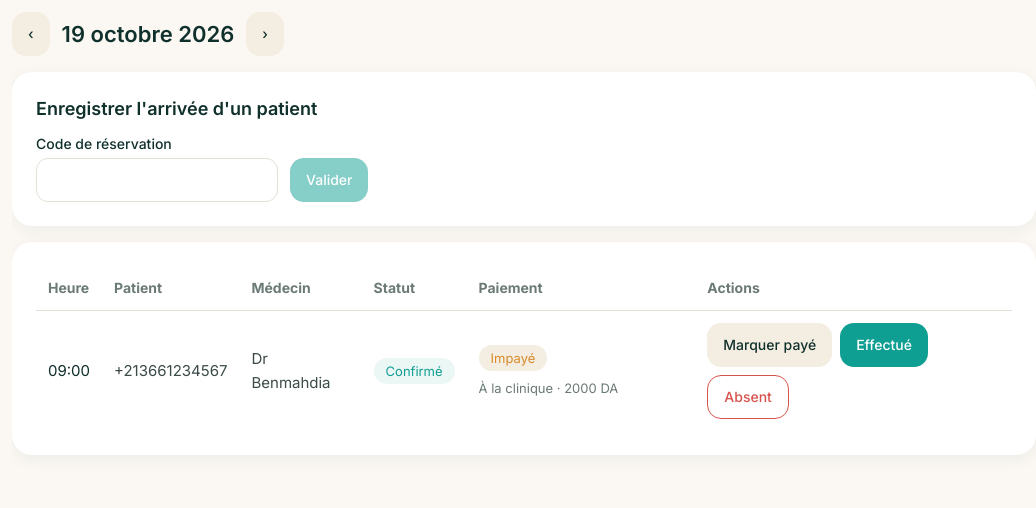
Check-in › explains checkin_code_invalid
expect the text "09:00" is shown: met, box [36, 310, 102, 431]
Type "ZZZZZZ" into the field labelled "Code de réservation" at (157, 180), box [36, 158, 278, 202]
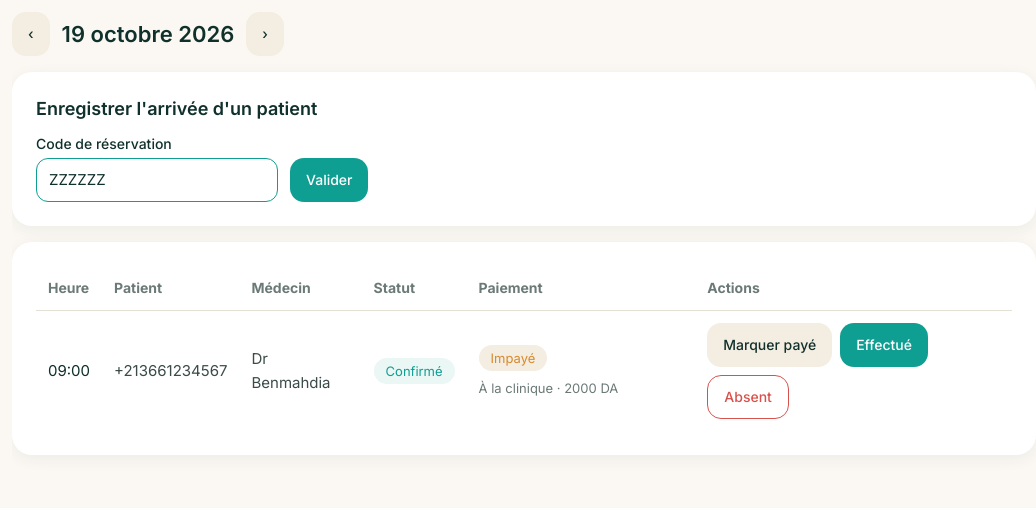
Click the button "Valider" at (329, 180), box [290, 158, 368, 202]
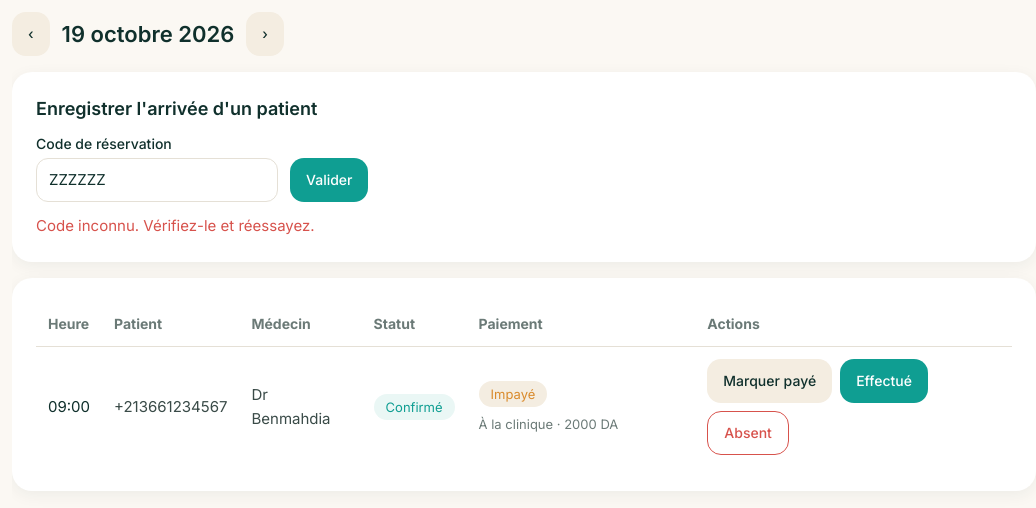
expect the message reads "Code inconnu. Vérifiez-le et réessayez.": met, box [36, 216, 315, 235]
